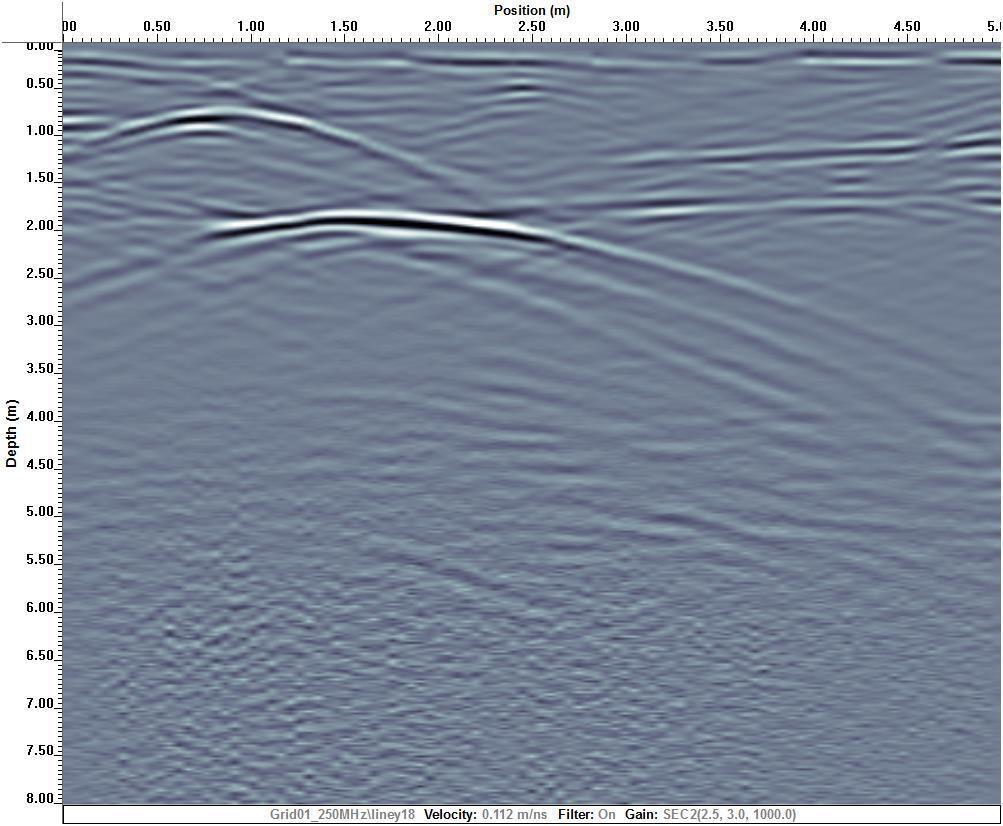hyperbola: (176, 188, 593, 306), (72, 88, 398, 191)
